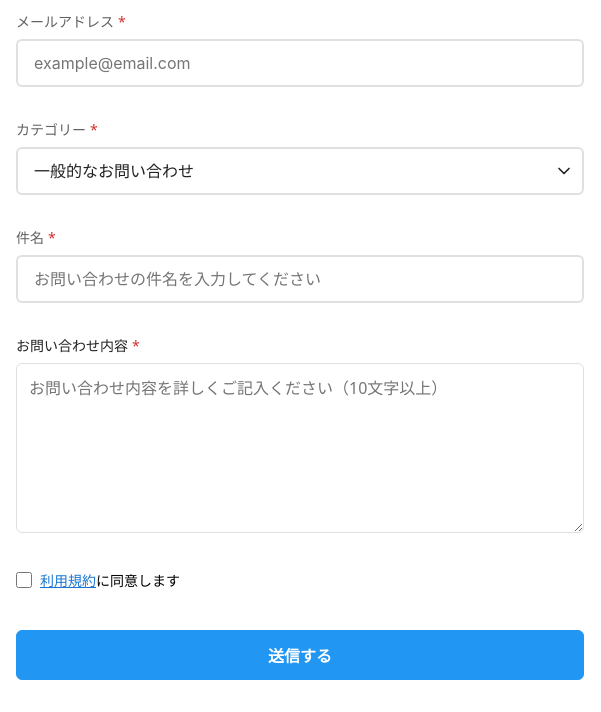
it: ContactPage Component › should show validation error when subject is empty
(page scrolled)
Click the button "送信する".
click(300, 655)  # box [16, 630, 584, 680]
(page scrolled)
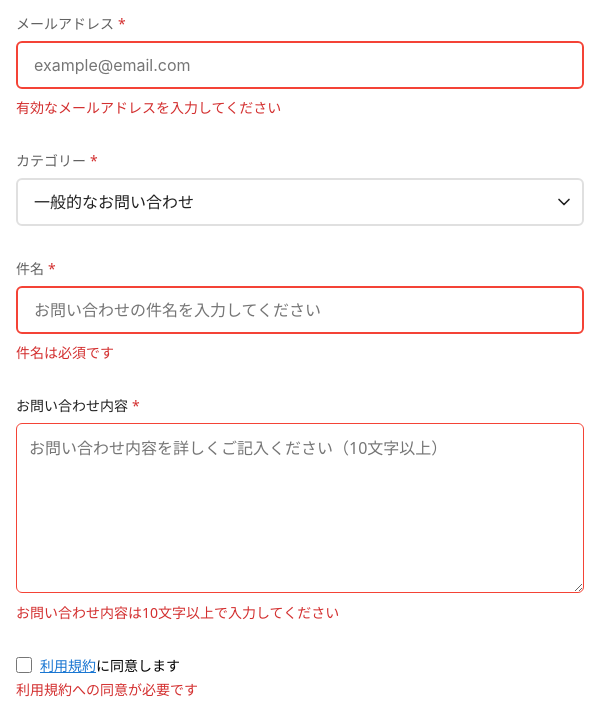
Result: the text "件名は必須です" is shown at [16, 343, 114, 362]
